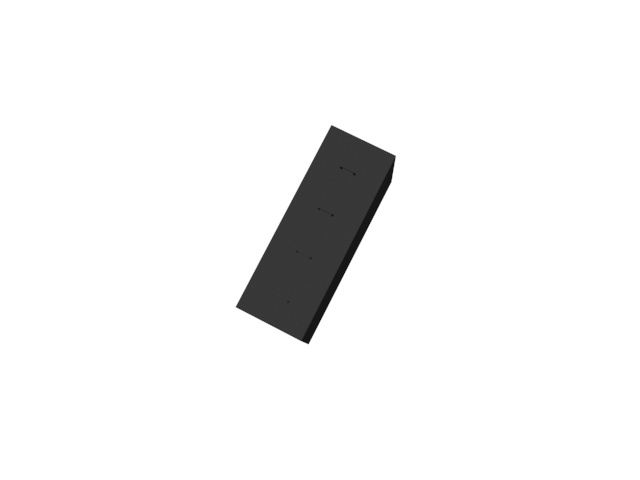file_cabinet: (233, 121, 400, 352)
